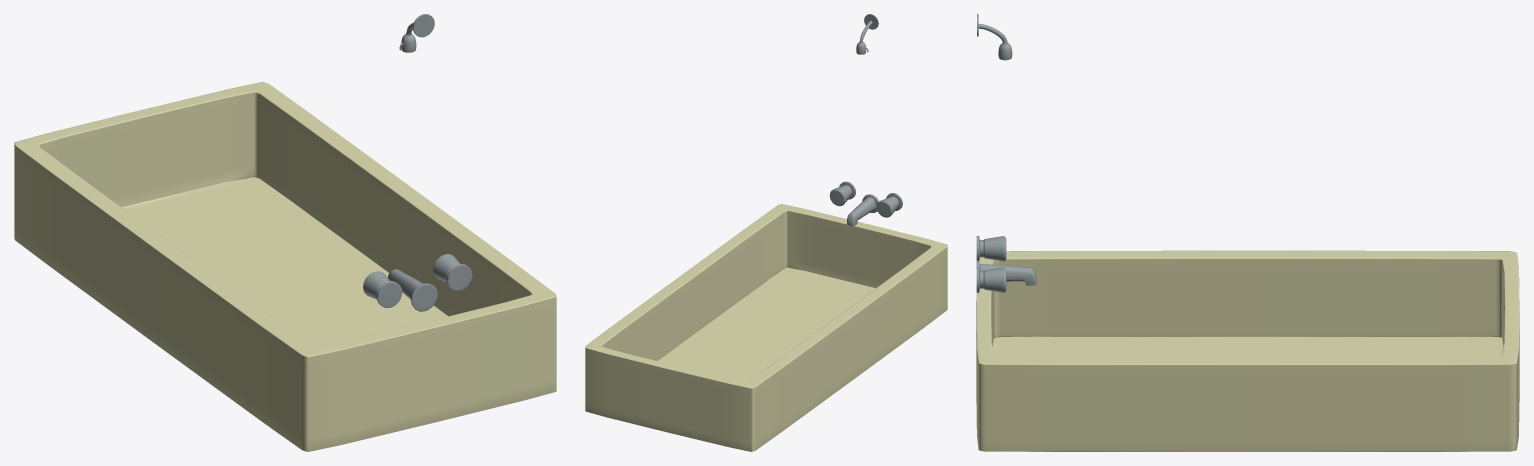
File: m_duck_bathtub_high_r.fbx
3 renders of one model, left to right at view 1: azimuth 30°, elevation 25°; view 2: azimuth 150°, elevation 25°; view 3: azimuth 270°, elevation 25°, orthographic. The views are drawn at different scales.
Visible parts, largest first — view 1: polySurface1; view 2: polySurface1; view 3: polySurface1.
Part boxes in pixels (x1,y1,x2,y2): polySurface1: (14, 14, 556, 451); polySurface1: (585, 14, 947, 451); polySurface1: (976, 14, 1519, 451).
Size of the model in its own units: 12 by 18.43 by 24.12.
